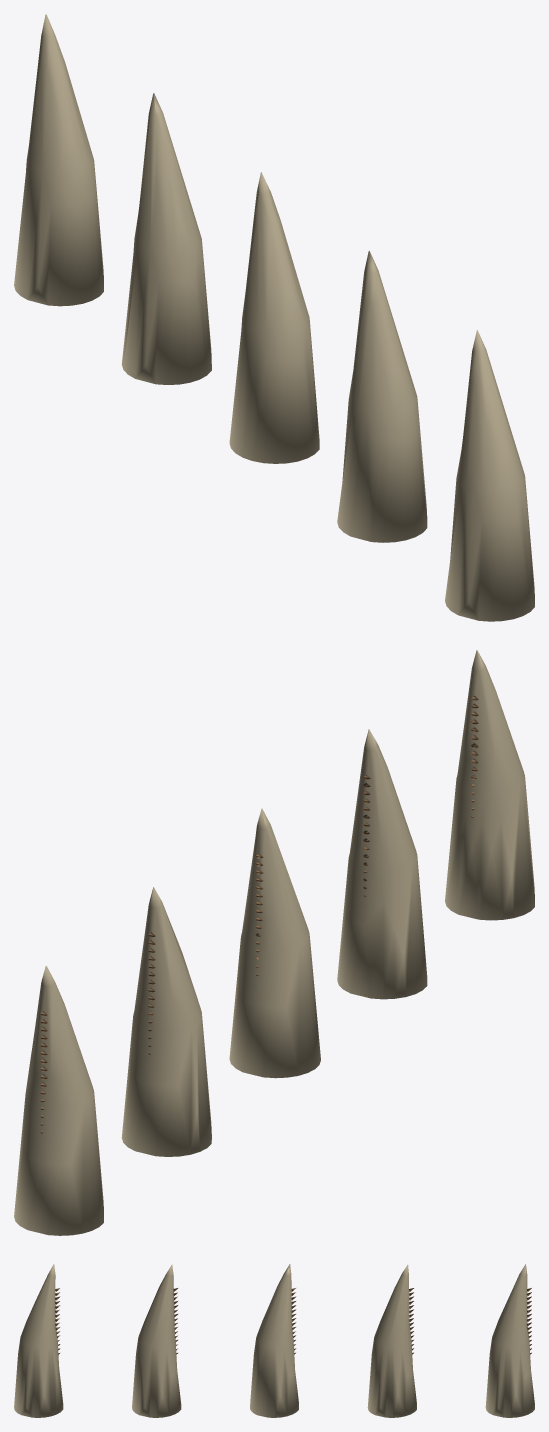
The picture shows the model from 3 angles, top to bottom: view 1: azimuth 30°, elevation 25°; view 2: azimuth 150°, elevation 25°; view 3: azimuth 270°, elevation 25°; orthographic projection. The views are drawn at different scales.
Visible parts, largest first — view 1: D06_SPEC_Ivory_export; view 2: D06_SPEC_Ivory_export, D06_SPEC_Fossil umber_export; view 3: D06_SPEC_Ivory_export, D06_SPEC_Fossil umber_export.
Part boxes in pixels (bbox=[...]): D06_SPEC_Ivory_export: bbox=[14, 14, 534, 621]; D06_SPEC_Ivory_export: bbox=[14, 650, 534, 1235]; D06_SPEC_Fossil umber_export: bbox=[40, 695, 478, 1133]; D06_SPEC_Ivory_export: bbox=[14, 1264, 534, 1417]; D06_SPEC_Fossil umber_export: bbox=[55, 1288, 531, 1354].
Size of the model in its own units: 0.2 by 0.6326 by 2.08.
